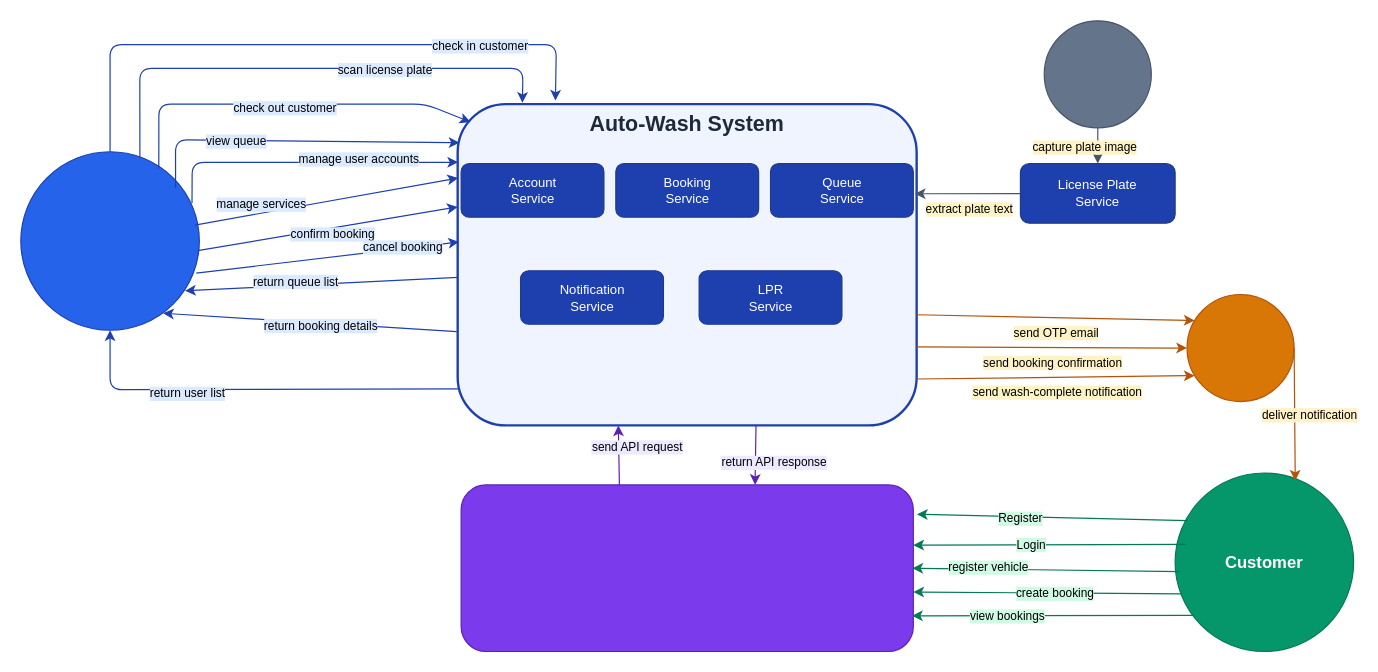
Some shapes in this 1378 by 672 pixel diagram are drawn without their labels. The centre of each missing label's shape, as x and y in pixels:
"Camera LPR" belongs at [1097,74].
"Email SMTP" belongs at [1240,347].
"Mobile Web" belongs at [686,568].
"Staff" belongs at [109,240].
